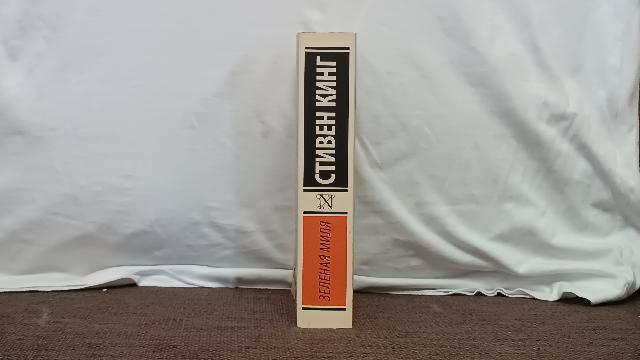book-s-spine: (297, 33, 356, 329)
